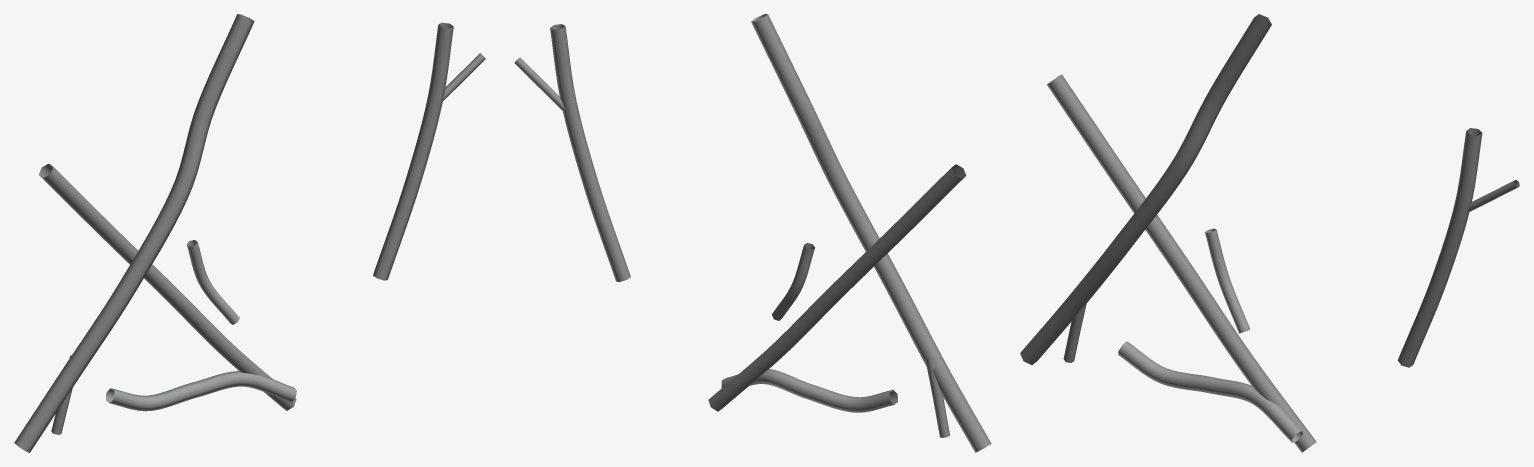
3 views of the same model, side by side, from view 1: azimuth 30°, elevation 25°; view 2: azimuth 150°, elevation 25°; view 3: azimuth 330°, elevation 25° (orthographic). The views are drawn at different scales.
Bounding box in the file's own units: 1.04 × 0.851 × 0.0653.
